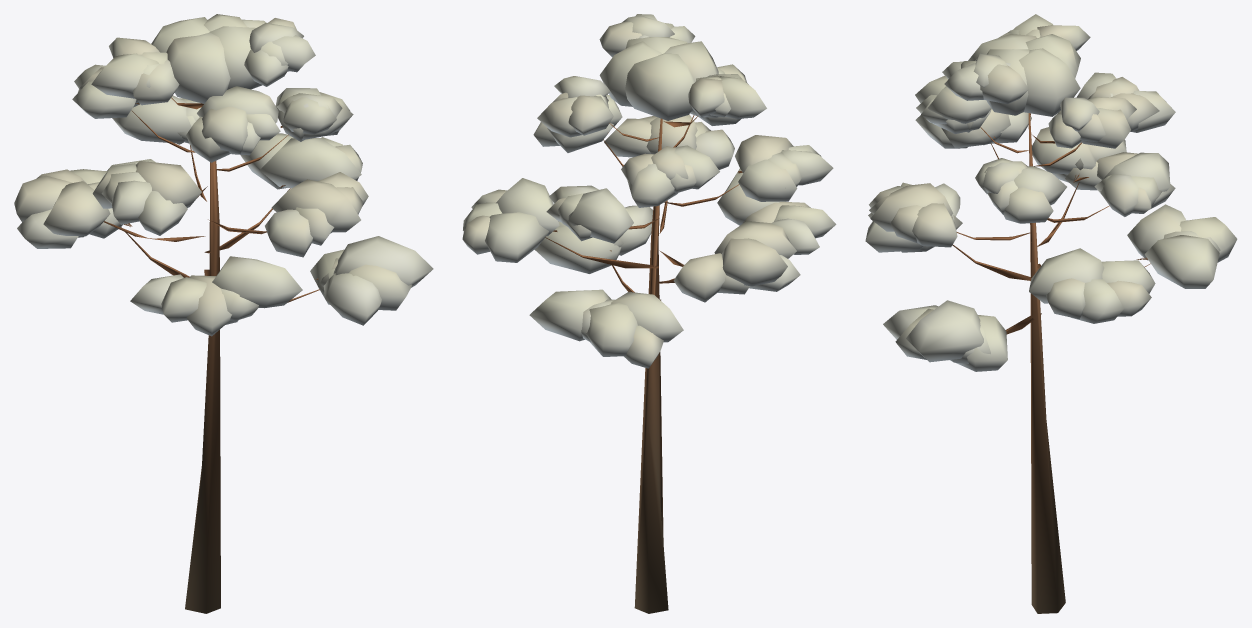
3 views of the same model, side by side, from view 1: azimuth 30°, elevation 25°; view 2: azimuth 150°, elevation 25°; view 3: azimuth 270°, elevation 25° (orthographic). The views are drawn at different scales.
Visible parts, largest first — view 1: crown, trunk; view 2: crown, trunk; view 3: crown, trunk.
Boxes of the visible parts, bbox=[...] form: crown: bbox=[14, 14, 433, 336]; trunk: bbox=[104, 97, 319, 613]; crown: bbox=[462, 14, 836, 368]; trunk: bbox=[545, 115, 742, 613]; crown: bbox=[865, 14, 1237, 371]; trunk: bbox=[952, 113, 1150, 613].
Size of the model in its own units: 9.97 by 16.6 by 9.84.
